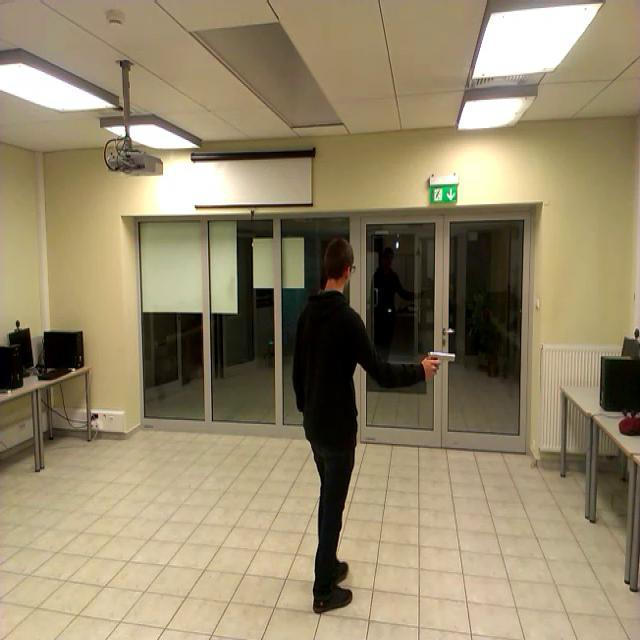Gun: (426, 350, 454, 375)
